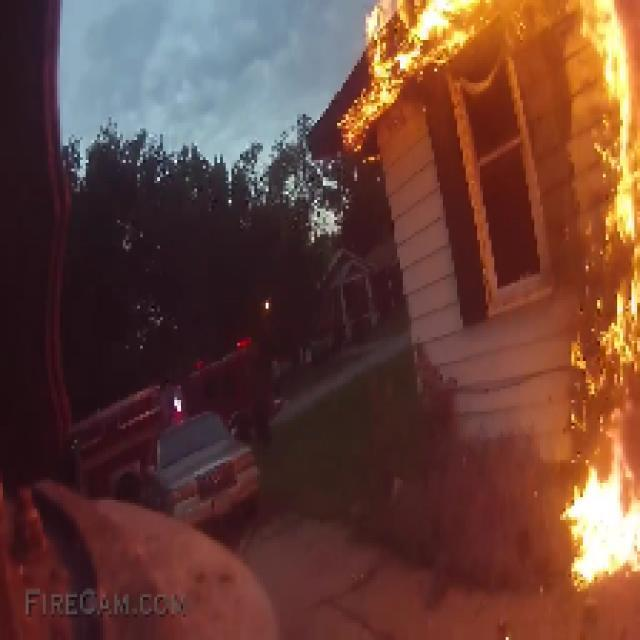Fire: (582, 9, 630, 457), (566, 469, 637, 562), (366, 0, 468, 57)
